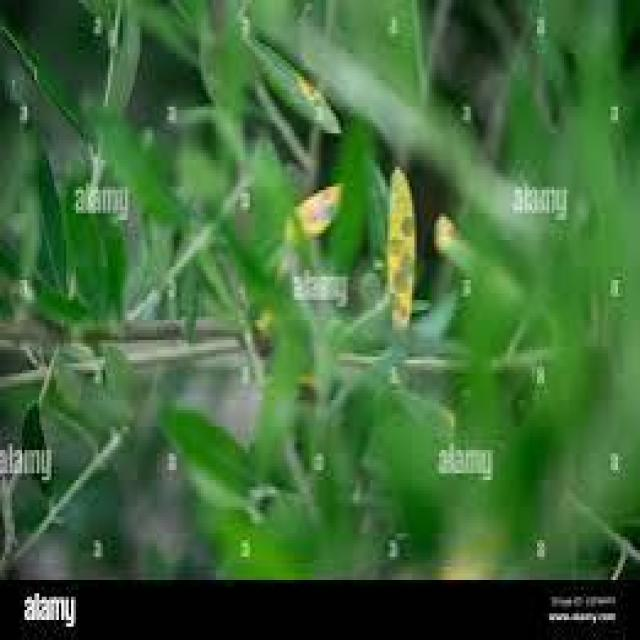Peacock Eye: (243, 40, 338, 130), (387, 167, 414, 327)
